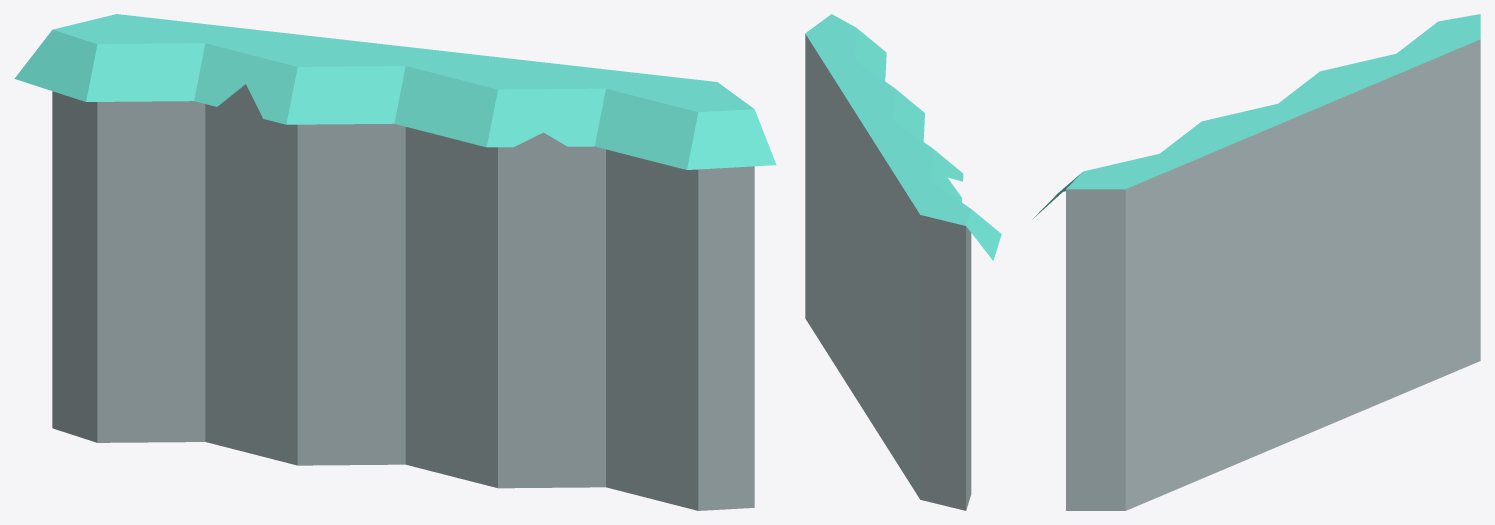
File: cliff_topDiagonal_stone.gltf
The picture shows the model from 3 angles, left to right: view 1: azimuth 30°, elevation 25°; view 2: azimuth 150°, elevation 25°; view 3: azimuth 270°, elevation 25°; orthographic projection. The views are drawn at different scales.
Visible parts, largest first — view 1: cliff_topDiagonal_stone; view 2: cliff_topDiagonal_stone; view 3: cliff_topDiagonal_stone.
Boxes of the visible parts, <box> form: cliff_topDiagonal_stone: <box>14,14,776,510</box>; cliff_topDiagonal_stone: <box>805,14,1001,510</box>; cliff_topDiagonal_stone: <box>1032,14,1480,510</box>.
Bounding box in the file's own units: 1.27 × 1 × 1.27.
